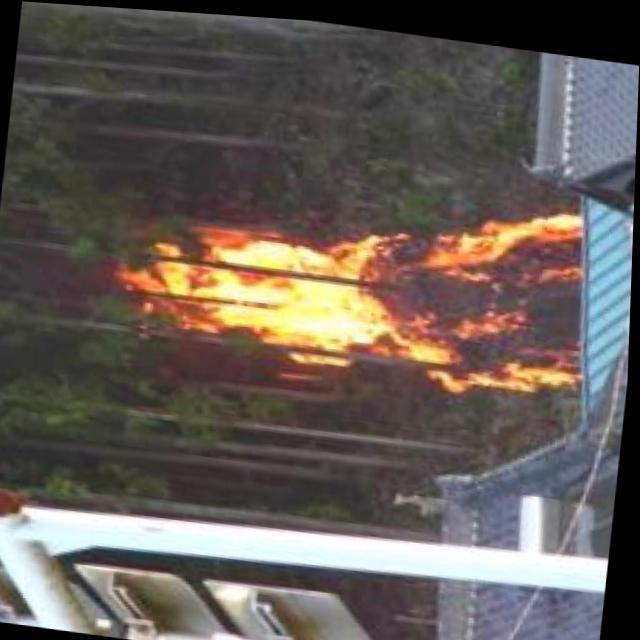fire: (125, 152, 597, 402)
